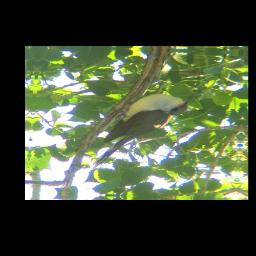Cuckoo: (91, 91, 190, 174)
